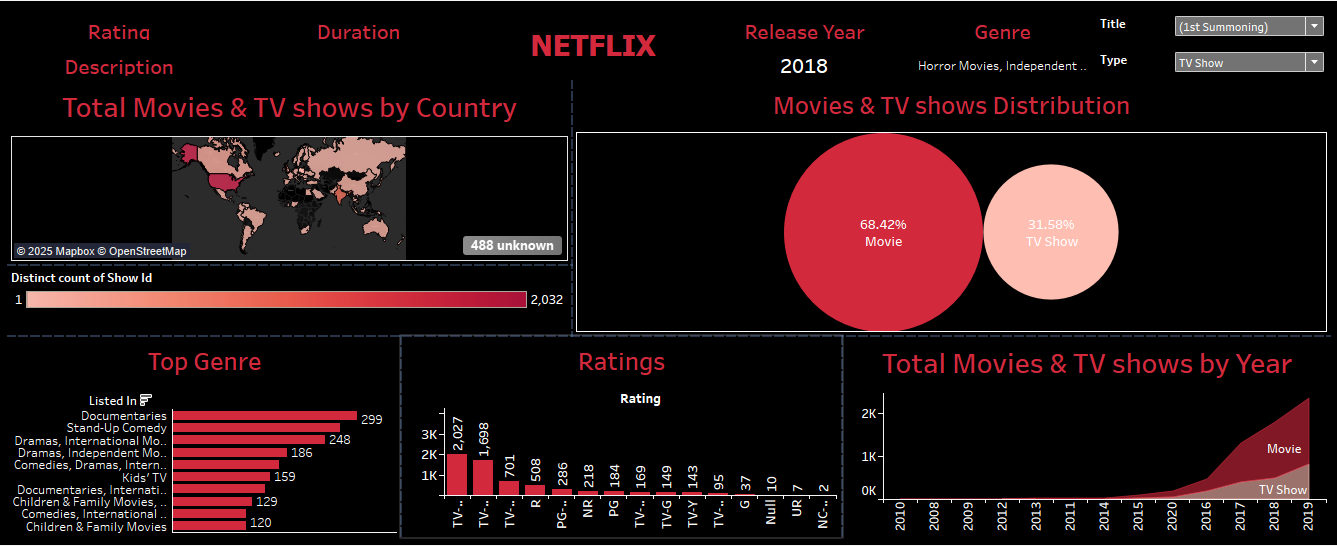

The page's visual inventory and layout, read from the dashboard file:
{"tool":"tableau","page":{"name":"Dashboard 1","canvas":[1000,1000],"units":"permille","ordinal":0},"visuals":[{"type":"worksheet","title":"Rating","mark":"Automatic","box":[6,14.7,167.5,64.3]},{"type":"worksheet","title":"Duration","mark":"Automatic","box":[173.4,14.7,190,130.5]},{"type":"text","box":[363.4,14.7,159.7,130.5]},{"type":"worksheet","title":"Release Year","mark":"Automatic","box":[523.1,14.7,156,130.5]},{"type":"worksheet","title":"Genre","mark":"Automatic","box":[679.1,14.7,139.6,130.5]},{"type":"filter","title":"Description","param":"[federated.0tco1gq1bdux4v1gafdz20a5m6no].[none:title:nk]","box":[818.7,14.7,175.4,65.3]},{"type":"worksheet","title":"Description","mark":"Automatic","box":[6,79,167.5,66.2]},{"type":"filter","title":"Description","param":"[federated.0tco1gq1bdux4v1gafdz20a5m6no].[none:type:nk]","box":[818.7,80,175.4,65.2]},{"type":"worksheet","title":"Total Movies & TV shows by Year (2)","mark":"Multipolygon","box":[6,145.2,421.6,339.7]},{"type":"worksheet","title":"Movies & TV shows Distribution","mark":"Circle","box":[427.6,145.2,566.4,470.6]},{"type":"legend","title":"Total Movies & TV shows by Year (2)","param":"[federated.0tco1gq1bdux4v1gafdz20a5m6no].[ctd:show_id:qk]","box":[6,484.9,421.6,130.9]},{"type":"worksheet","title":"Top Genre","mark":"Bar","rows":["listed_in"],"cols":["show_id"],"box":[6,615.8,294,369.5]},{"type":"worksheet","title":"Ratings","mark":"Automatic","rows":["show_id"],"cols":["rating"],"box":[300,615.8,329.1,369.5]},{"type":"worksheet","title":"Total Movies & TV shows by Year","mark":"Area","rows":["show_id"],"cols":["date_added"],"box":[629.1,615.8,364.9,369.5]}]}

Visuals, with their boxes on the dashboard's canvas, which has no fixed pixel size, in thousandths of its width and height (x1, y1, x2, y2). These are canvas units, not pixel positions in the 1337x546 screenshot, which may show the page scaled, cropped or inside an application window:
"Rating" worksheet: rect(6, 15, 174, 79)
"Duration" worksheet: rect(173, 15, 363, 145)
text: rect(363, 15, 523, 145)
"Release Year" worksheet: rect(523, 15, 679, 145)
"Genre" worksheet: rect(679, 15, 819, 145)
"Description" filter: rect(819, 15, 994, 80)
"Description" worksheet: rect(6, 79, 174, 145)
"Description" filter: rect(819, 80, 994, 145)
"Total Movies & TV shows by Year (2)" worksheet (Multipolygon marks): rect(6, 145, 428, 485)
"Movies & TV shows Distribution" worksheet (Circle marks): rect(428, 145, 994, 616)
"Total Movies & TV shows by Year (2)" legend: rect(6, 485, 428, 616)
"Top Genre" worksheet (Bar marks): rect(6, 616, 300, 985)
"Ratings" worksheet: rect(300, 616, 629, 985)
"Total Movies & TV shows by Year" worksheet (Area marks): rect(629, 616, 994, 985)
